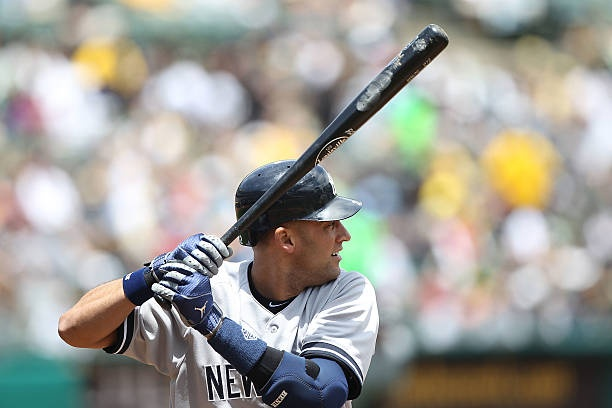bita: (213, 21, 453, 248)
